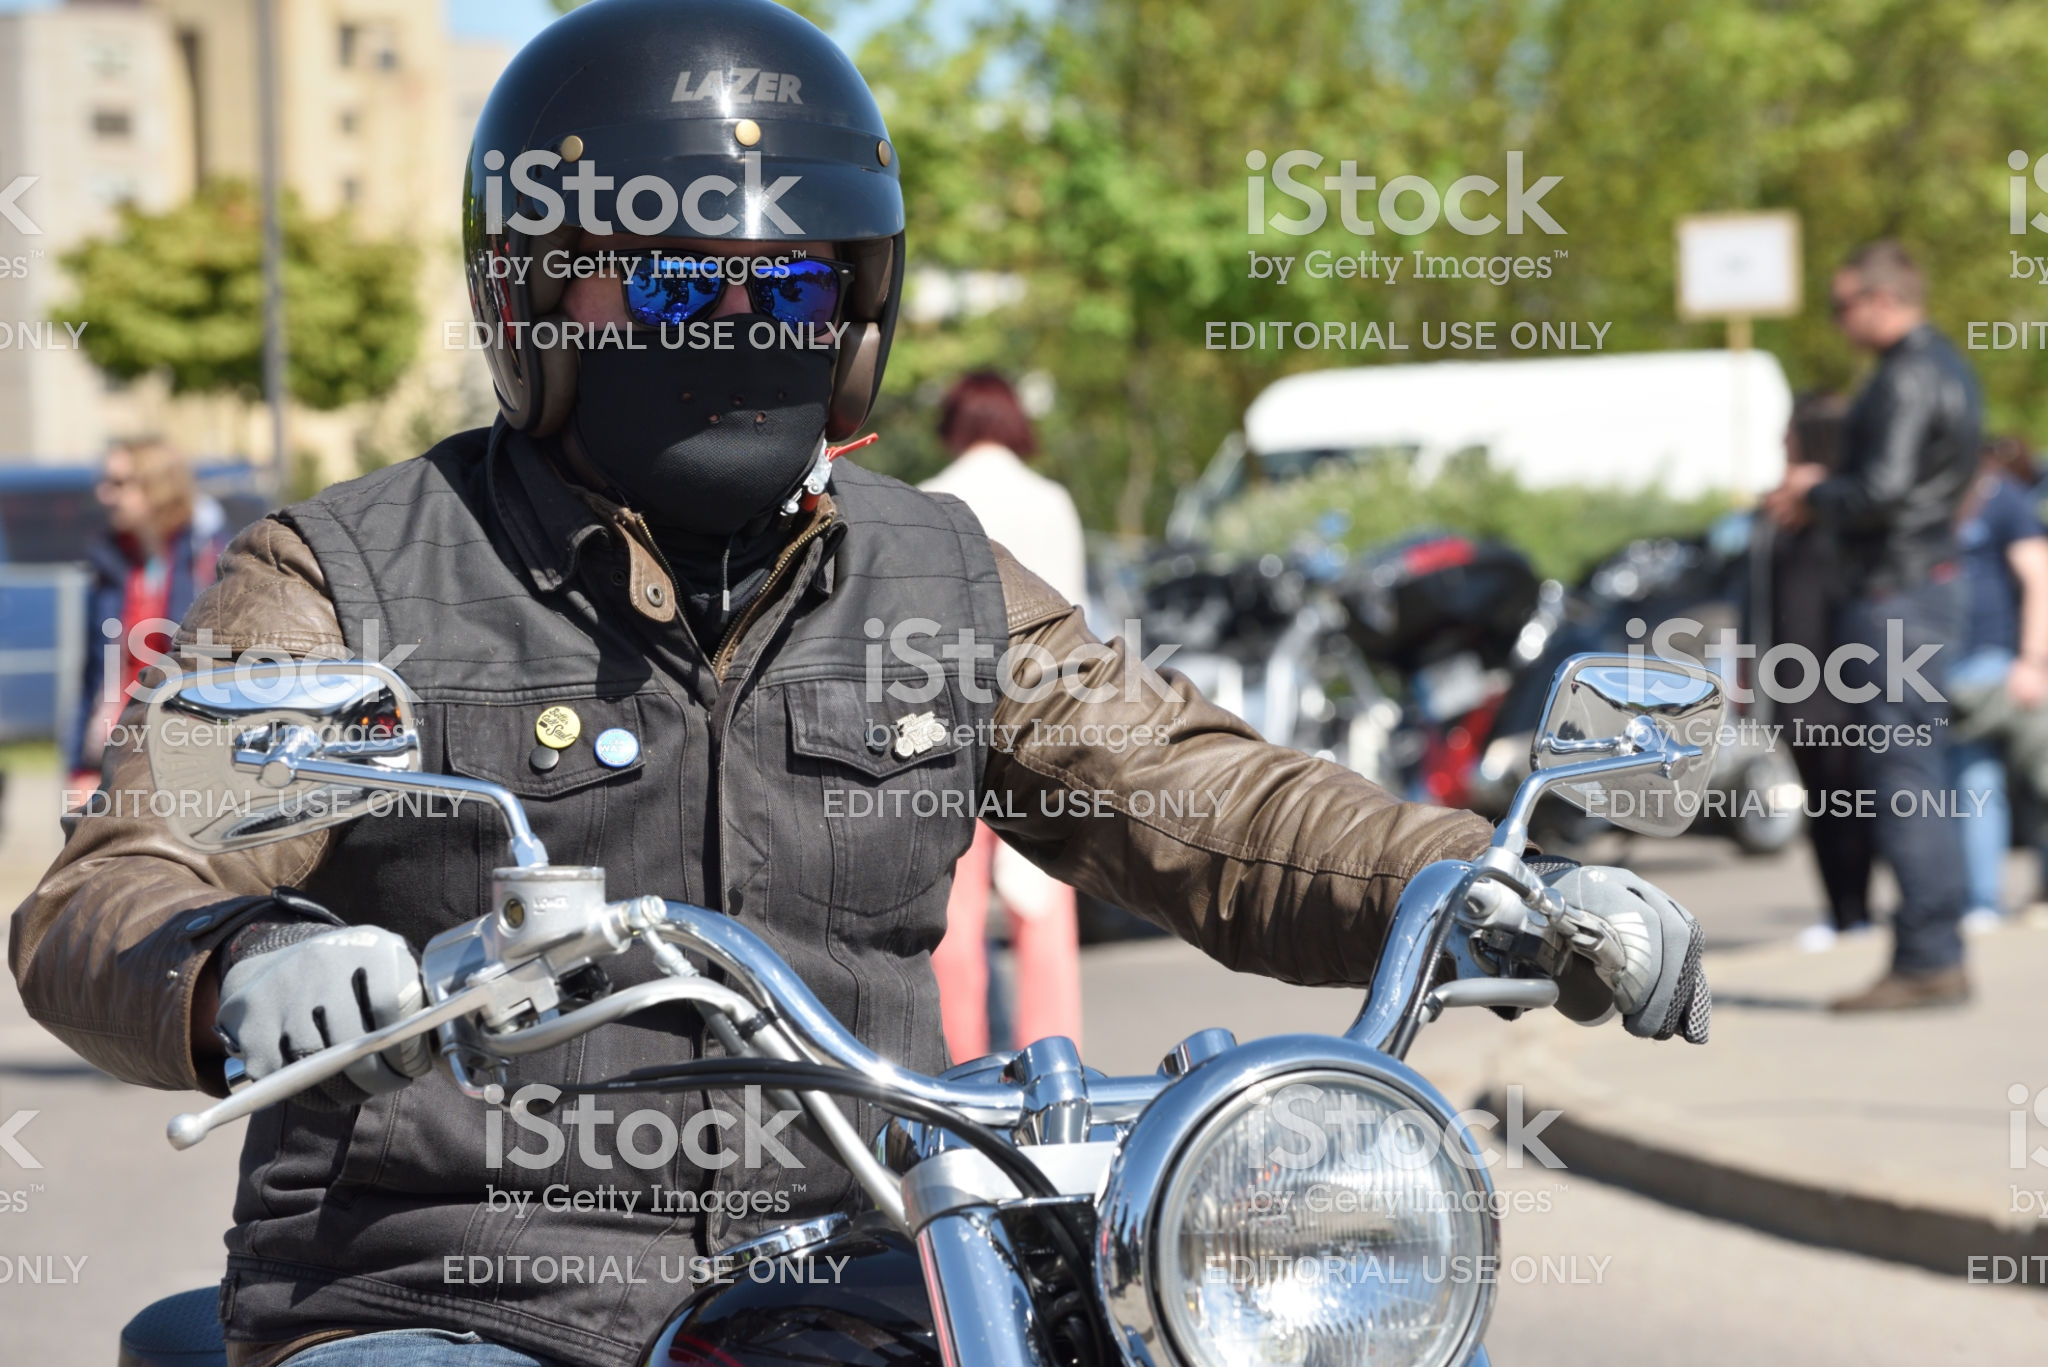helmet: (435, 20, 933, 497)
